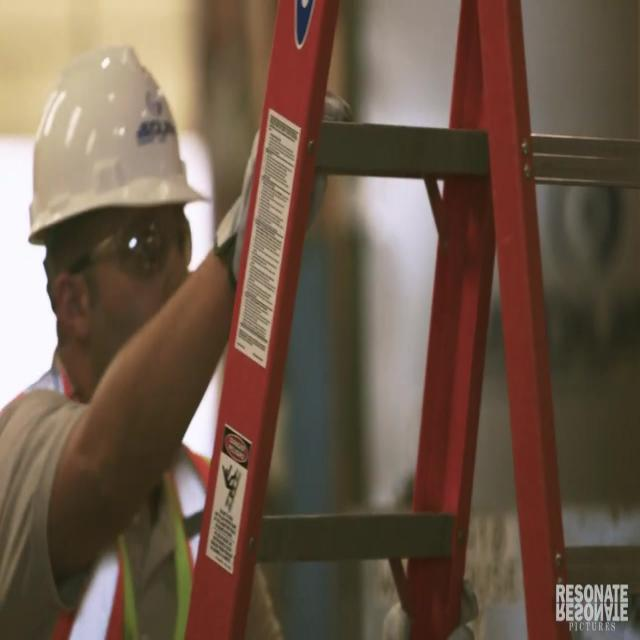Reflective-Jacket: (2, 317, 215, 639)
Safety-Helmet: (19, 34, 204, 254)
